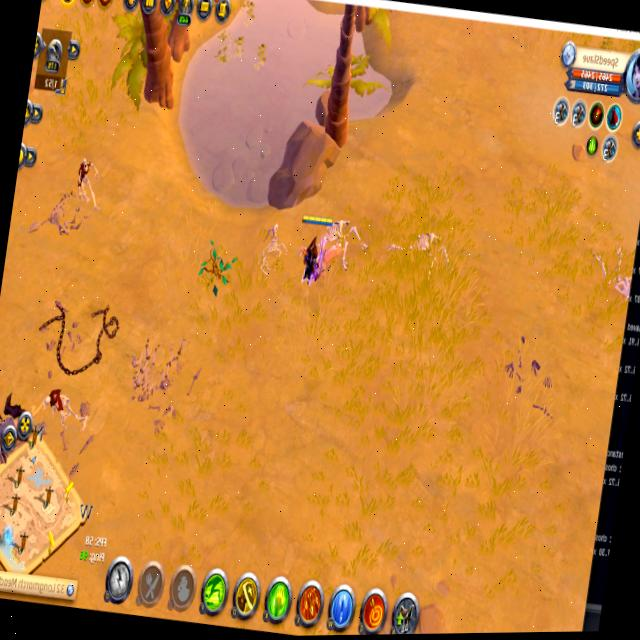mob: (310, 230, 348, 281)
ore: (72, 154, 105, 209), (36, 383, 76, 426)
red: (294, 211, 334, 287)
